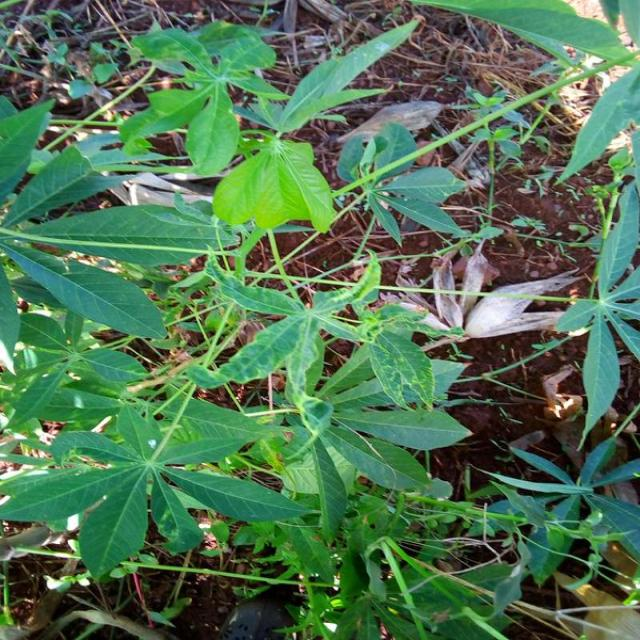cassava leaf: (212, 133, 334, 235)
